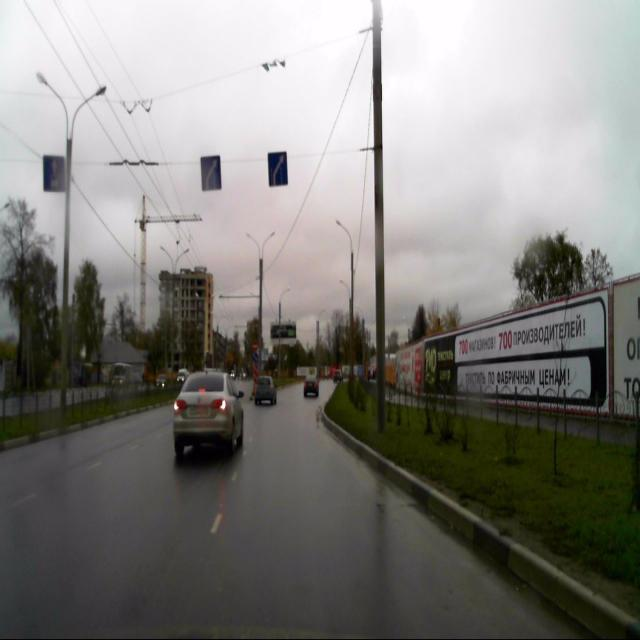road sign: (43, 155, 65, 192), (268, 149, 288, 187), (201, 155, 222, 190)
